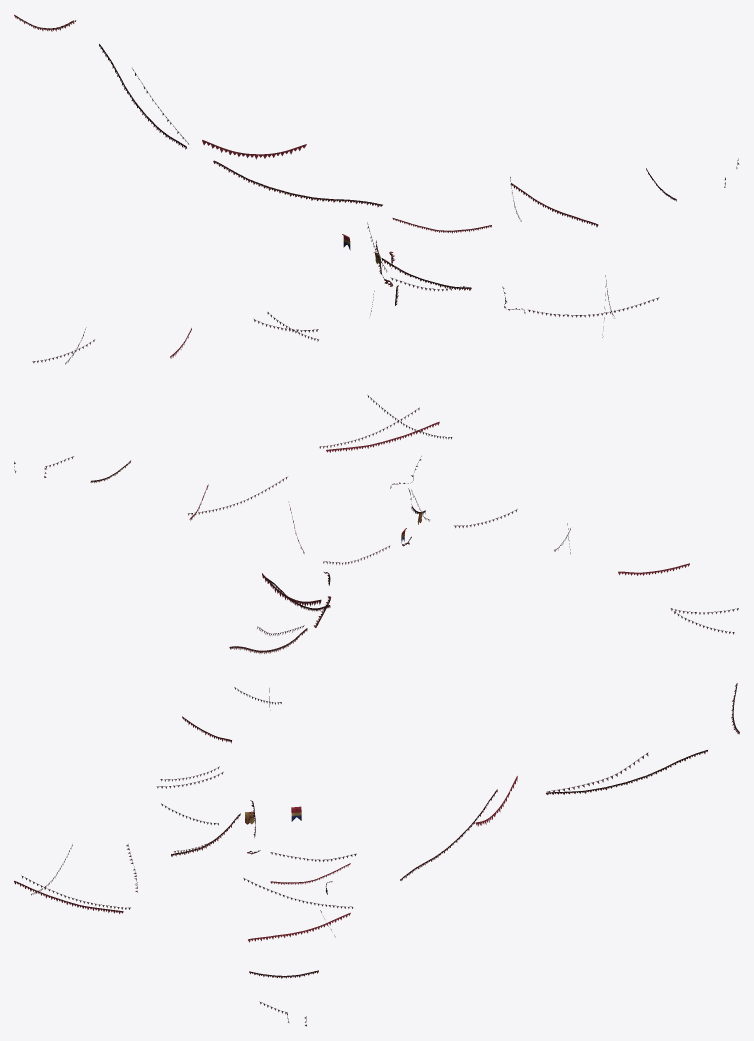
Rendered from Ribbons_Combined.glb.
3 renders of one model, top to bottom at view 1: azimuth 30°, elevation 25°; view 2: azimuth 150°, elevation 25°; view 3: azimuth 270°, elevation 25°, orthographic. The views are drawn at different scales.
Visible parts, largest first — view 1: SM_Ribbons_Combined; view 2: SM_Ribbons_Combined; view 3: SM_Ribbons_Combined.
Boxes of the visible parts, x1,y1,x2,y2 form: SM_Ribbons_Combined: [14, 14, 739, 364]; SM_Ribbons_Combined: [14, 395, 738, 653]; SM_Ribbons_Combined: [14, 683, 739, 1026].
Size of the model in its own units: 84.34 by 20.16 by 75.75.
Materials: 1 (1 with a texture image).
